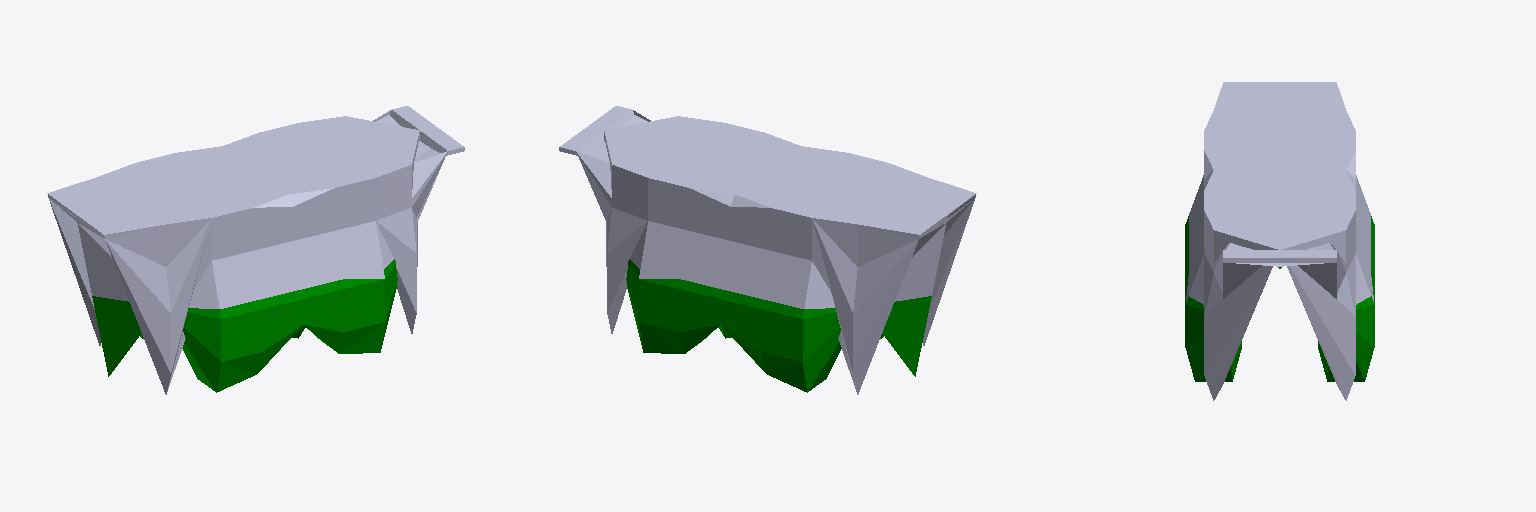
Rendered from КуТик.obj.
3 views of the same model, side by side, from view 1: azimuth 30°, elevation 25°; view 2: azimuth 150°, elevation 25°; view 3: azimuth 270°, elevation 25° (orthographic).
Size of the model in its own units: 44 by 20 by 20.